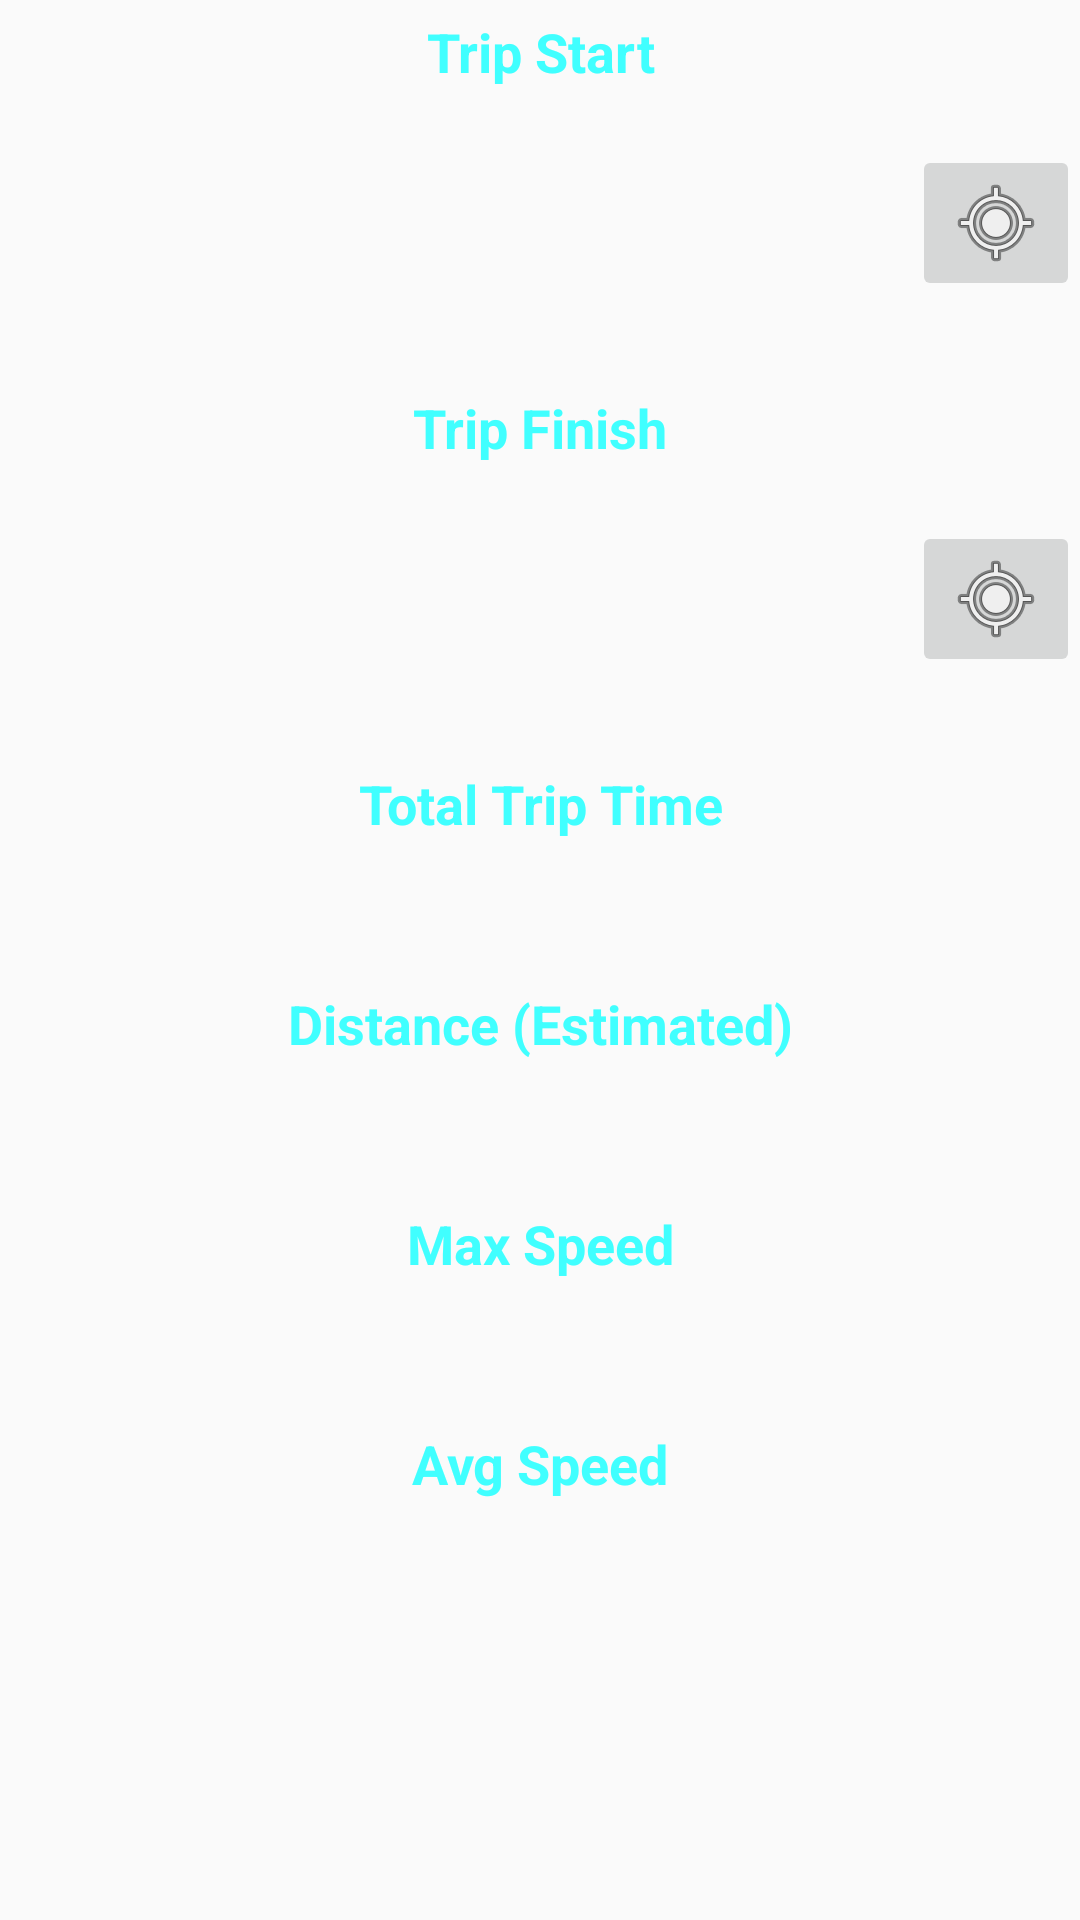

Icons on this 1080x1920 Android screen, each with the point to tap as [x,y]:
mylocation: [996,223], [996,599]
